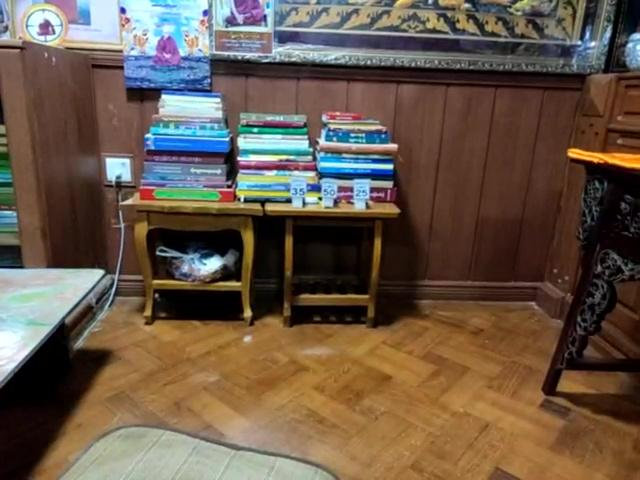Speed Limit 25: (353, 175, 371, 199)
Speed Limit 35: (288, 175, 306, 202)
Speed Limit 50: (320, 177, 339, 202)
